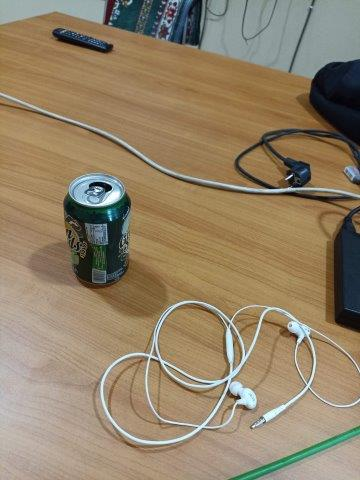kaleng: (63, 172, 132, 288)
